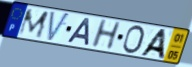A: (138, 28, 169, 61), (66, 17, 92, 48)
H: (89, 18, 123, 51)
M: (16, 8, 51, 40)
O: (120, 25, 146, 56)
V: (46, 10, 72, 44)
